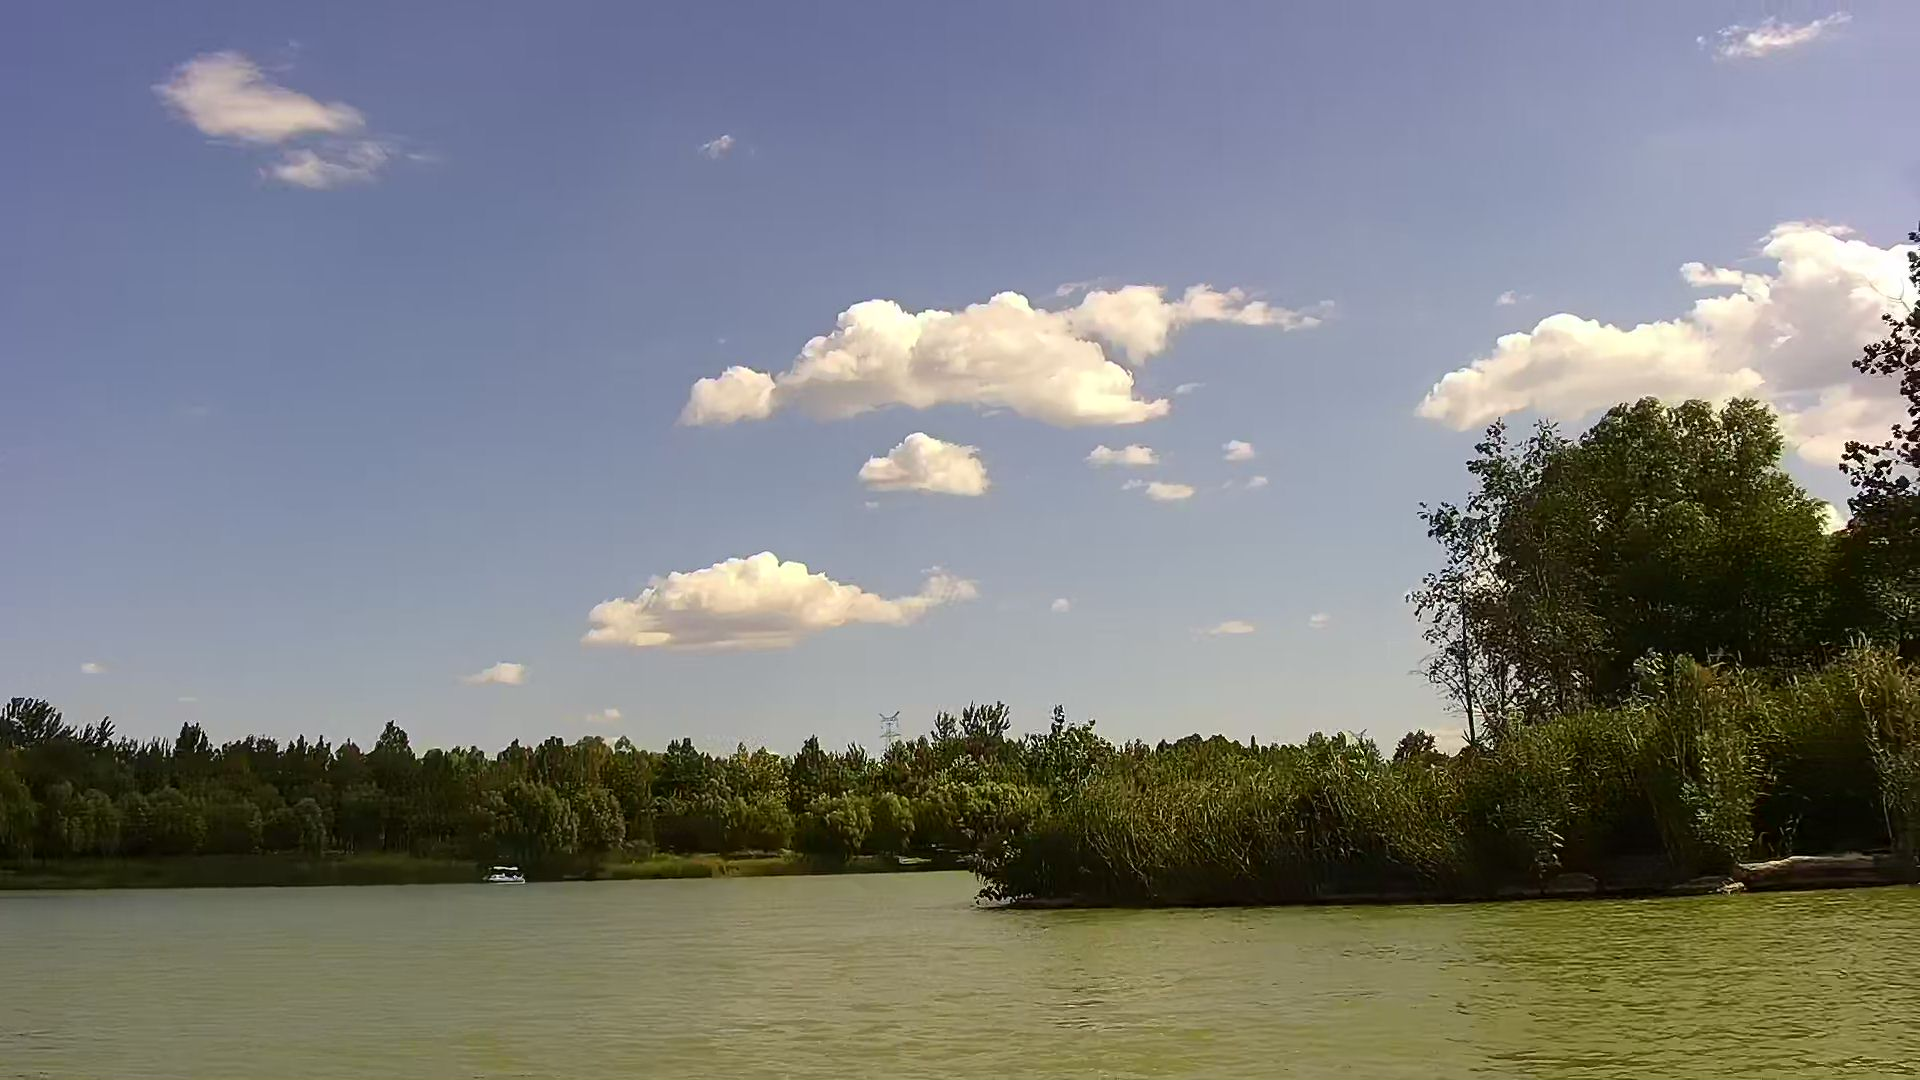boat: (483, 865, 527, 887)
